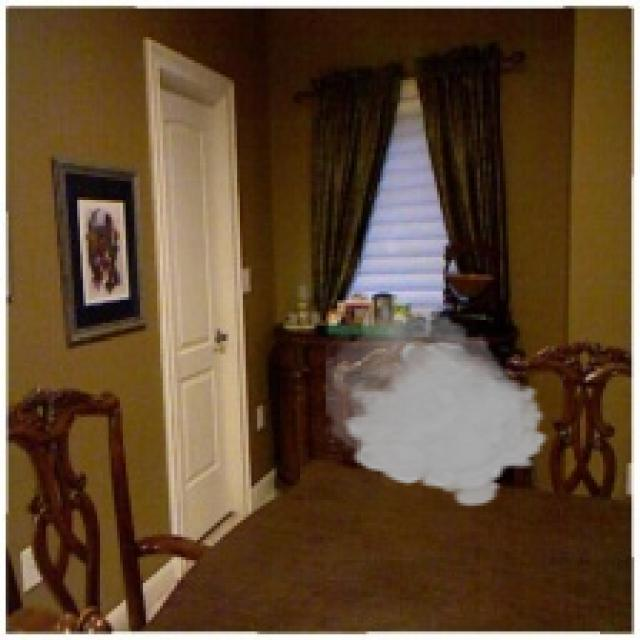smoke: (326, 297, 551, 509)
